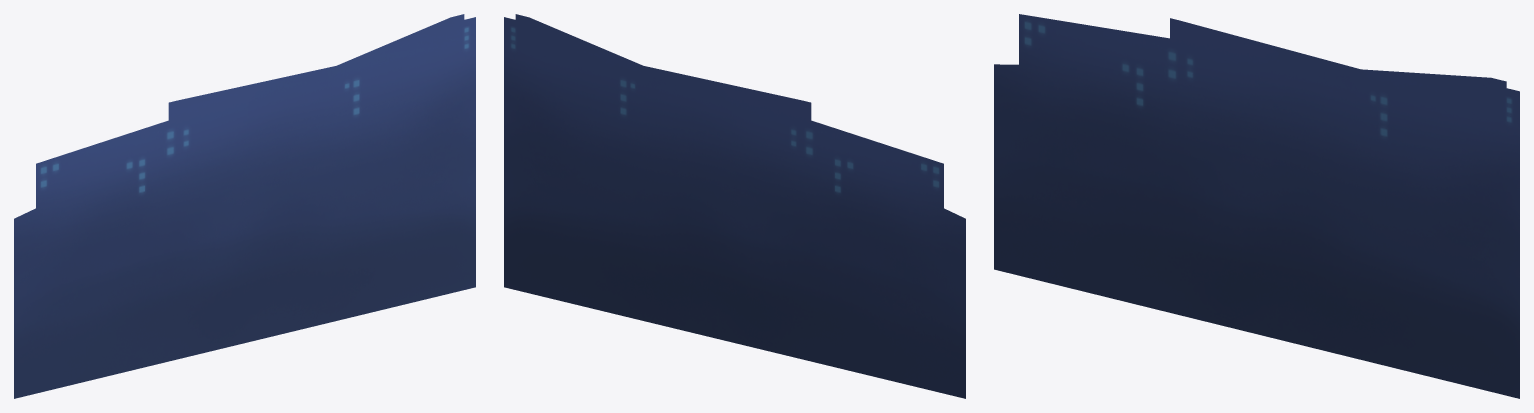
File: SM_building.FBX
The picture shows the model from 3 angles, left to right: view 1: azimuth 30°, elevation 25°; view 2: azimuth 150°, elevation 25°; view 3: azimuth 330°, elevation 25°; orthographic projection. The views are drawn at different scales.
Visible parts, largest first — view 1: building; view 2: building; view 3: building.
Part boxes in pixels (<box>): building: <box>14,14,475,398</box>; building: <box>504,14,965,398</box>; building: <box>994,14,1519,398</box>.
Bounding box in the file's own units: 1011 × 577 × 6.39e-05.
Materials: 1 (1 with a texture image).
